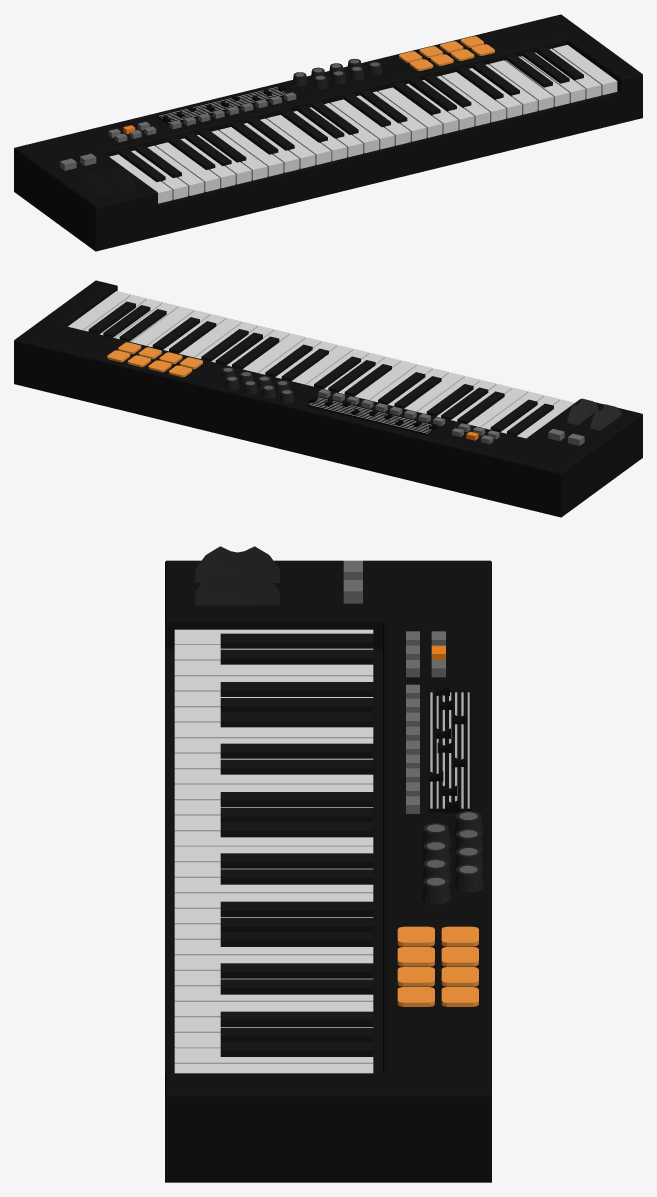
The model's file is Midi Keyboard11.fbx.
3 views of the same model, one above another, from view 1: azimuth 30°, elevation 25°; view 2: azimuth 150°, elevation 25°; view 3: azimuth 270°, elevation 25° (orthographic). The views are drawn at different scales.
Visible parts, largest first — view 1: 49keysmidi.012; view 2: 49keysmidi.012; view 3: 49keysmidi.012.
Part boxes in pixels (x1,y1,x2,y2): 49keysmidi.012: (14,14,642,251); 49keysmidi.012: (14,280,642,517); 49keysmidi.012: (165,546,491,1182).
Bounding box in the file's own units: 80 × 8.08 × 20.68.
